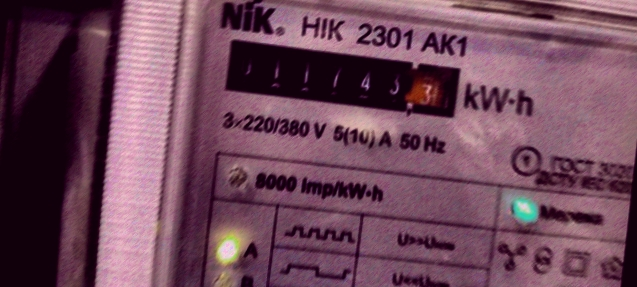0: (238, 48, 255, 78)
1: (298, 55, 313, 84), (270, 52, 283, 80)
3: (387, 68, 403, 97), (417, 81, 433, 107)
4: (357, 65, 374, 93)
7: (327, 59, 345, 88)
screen: (213, 27, 473, 129)
